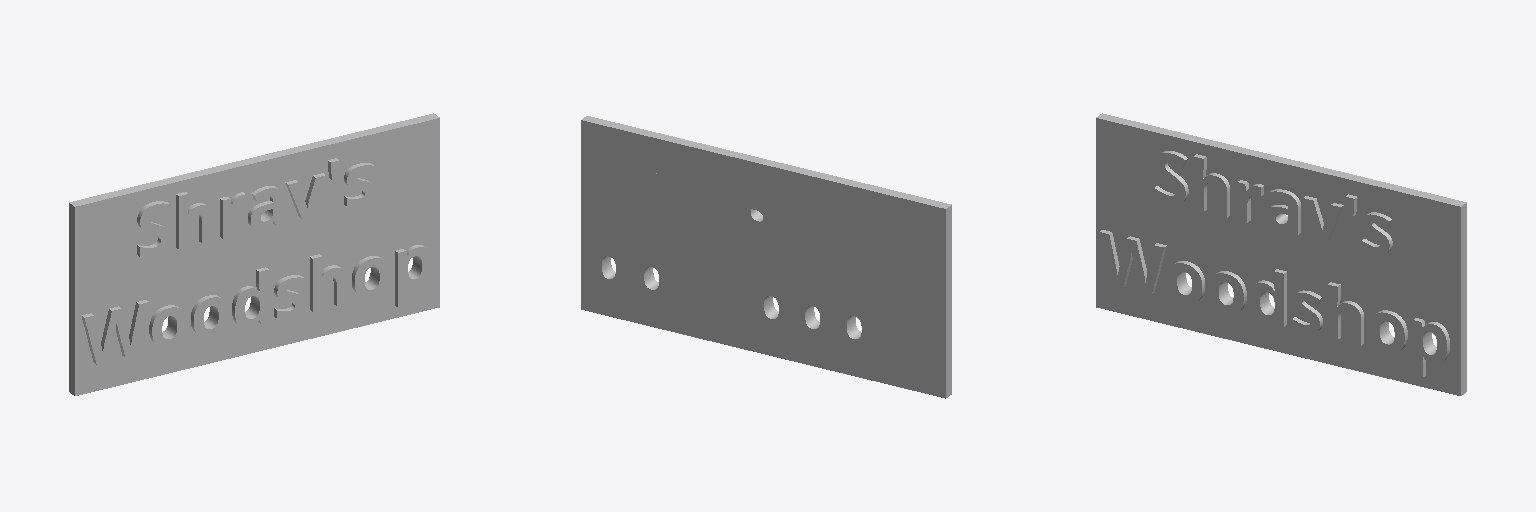
File: shop2.obj
The picture shows the model from 3 angles: view 1: azimuth 30°, elevation 25°; view 2: azimuth 150°, elevation 25°; view 3: azimuth 330°, elevation 25°; orthographic projection.
Visible parts, largest first — view 1: mesh4, mesh0, mesh327, mesh1, mesh498, mesh462, mesh346, mesh563, mesh301, mesh443, mesh361, mesh396 (+4 smaller); view 2: mesh5, mesh0, mesh328, mesh1, mesh499, mesh463, mesh347, mesh564, mesh302, mesh444, mesh362, mesh397 (+4 smaller); view 3: mesh4, mesh0, mesh327, mesh3, mesh498, mesh462, mesh563, mesh346, mesh301, mesh396, mesh413, mesh361 (+4 smaller).
Boxes of the visible parts, x1,y1,x2,y2 form: mesh4: [75, 118, 439, 395]; mesh0: [69, 113, 439, 206]; mesh327: [85, 302, 148, 364]; mesh1: [69, 203, 74, 395]; mesh498: [398, 247, 431, 307]; mesh462: [235, 270, 268, 328]; mesh346: [179, 194, 211, 248]; mesh563: [313, 256, 346, 311]; mesh301: [140, 203, 170, 256]; mesh443: [355, 258, 389, 298]; mesh361: [152, 307, 187, 347]; mesh396: [194, 297, 228, 337]; mesh5: [581, 120, 945, 398]; mesh0: [582, 116, 951, 208]; mesh328: [875, 302, 938, 364]; mesh1: [946, 205, 951, 397]; mesh499: [592, 247, 625, 307]; mesh463: [755, 270, 788, 328]; mesh347: [812, 194, 844, 248]; mesh564: [677, 256, 710, 311]; mesh302: [853, 203, 883, 256]; mesh444: [634, 258, 668, 298]; mesh362: [836, 307, 871, 347]; mesh397: [795, 297, 829, 337]; mesh4: [1096, 118, 1460, 395]; mesh0: [1096, 113, 1466, 206]; mesh327: [1099, 232, 1163, 294]; mesh3: [1461, 203, 1466, 395]; mesh498: [1413, 320, 1446, 376]; mesh462: [1250, 271, 1283, 326]; mesh563: [1328, 285, 1360, 345]; mesh346: [1194, 157, 1226, 217]; mesh301: [1155, 153, 1185, 204]; mesh396: [1208, 273, 1243, 313]; mesh413: [1265, 191, 1297, 234]; mesh361: [1167, 263, 1201, 303].
Bounding box in the file's own units: 0.1757 × 0.0872 × 0.0076.